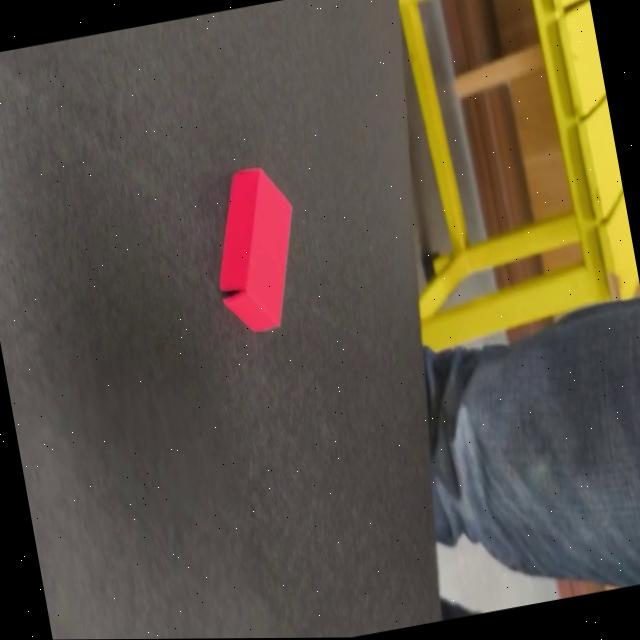red block: (198, 160, 314, 341)
